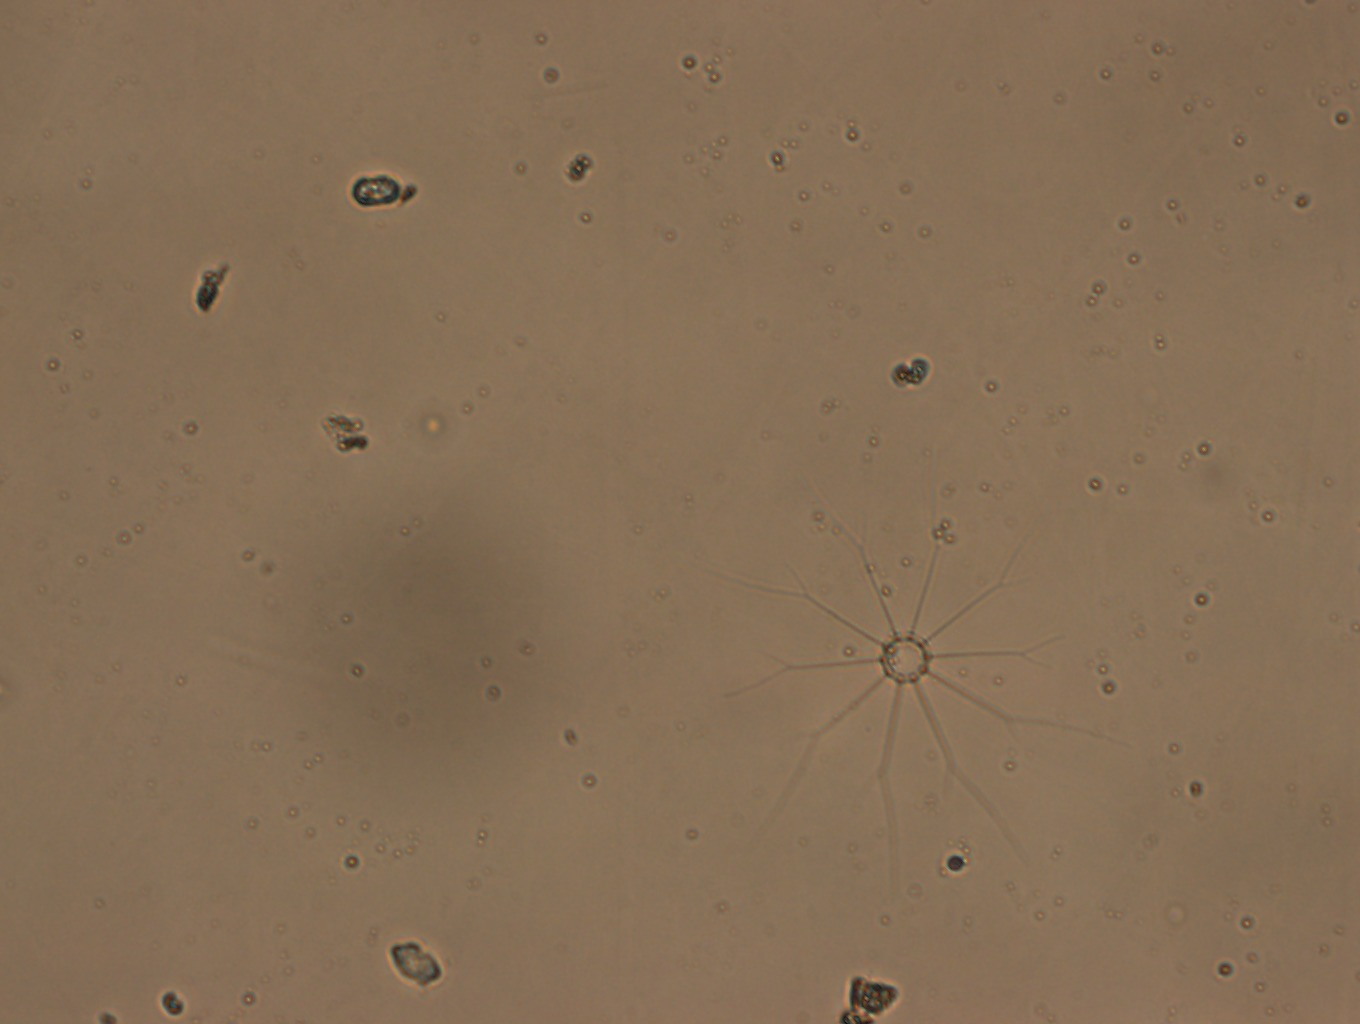bacteriastrum: (720, 483, 1089, 858)
